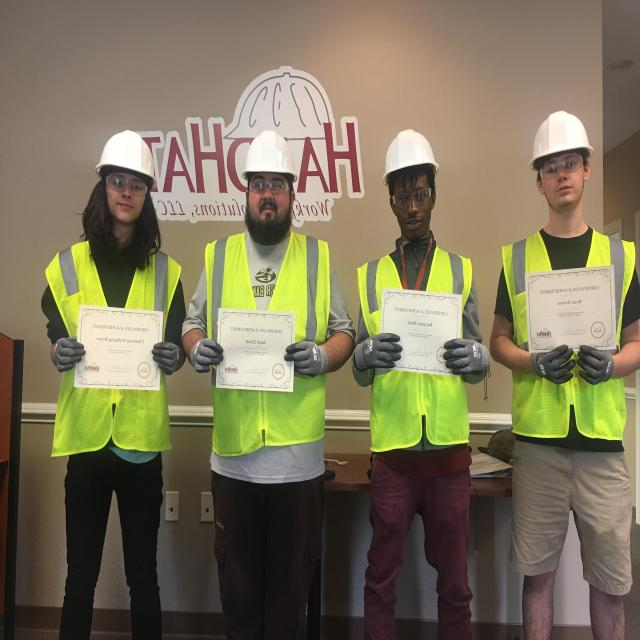Reflective-Jacket: (202, 231, 336, 462), (42, 244, 186, 458), (497, 231, 640, 443), (354, 249, 479, 458)
Safety-Helmet: (527, 104, 595, 168), (94, 124, 160, 187), (380, 123, 441, 184), (239, 124, 298, 182)
